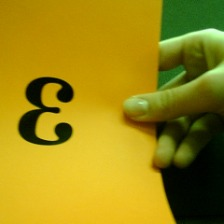orange3: (17, 68, 78, 150)
